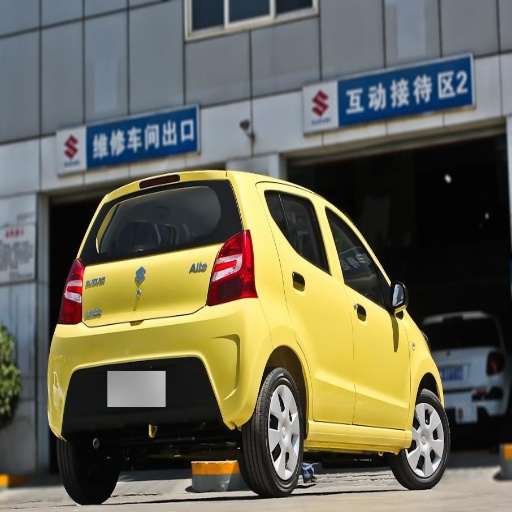back_bumper: (60, 299, 269, 429)
back_right_door: (276, 188, 355, 429)
back_right_light: (210, 232, 256, 304)
trunk: (56, 247, 221, 383)
